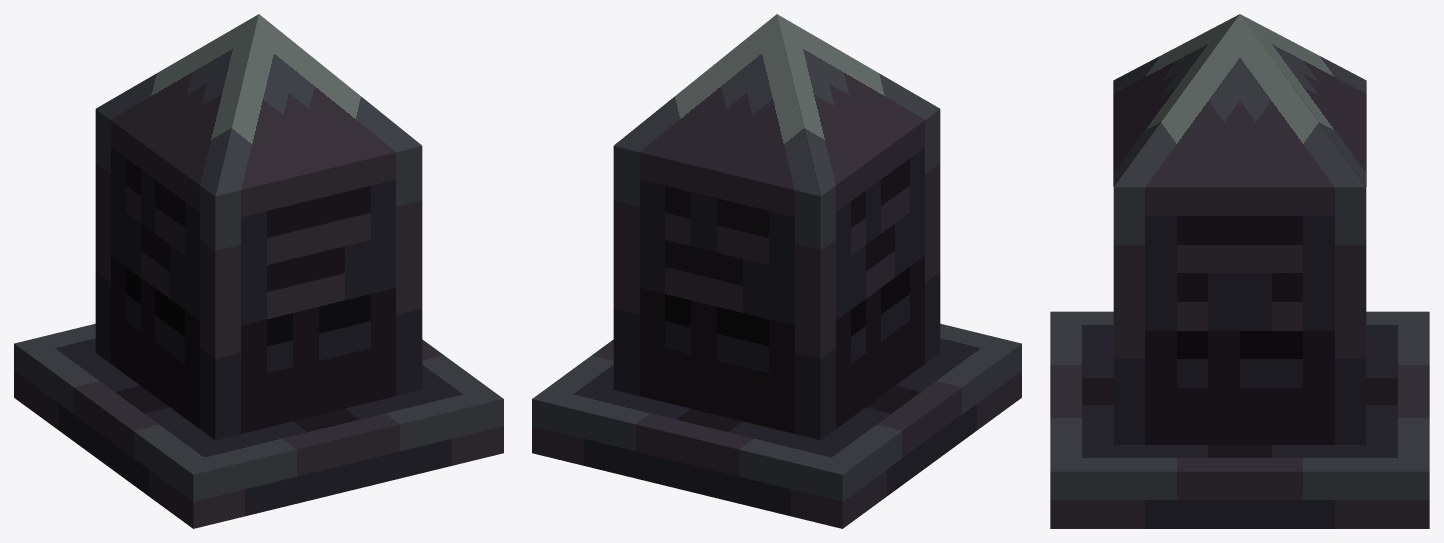
File: obelisk.obj
3 renders of one model, left to right at view 1: azimuth 30°, elevation 25°; view 2: azimuth 150°, elevation 25°; view 3: azimuth 270°, elevation 25°, orthographic. The views are drawn at different scales.
Parts seen in each view (by area): view 1: cube; view 2: cube; view 3: cube.
Part boxes in pixels (x1=…): cube: x1=14, y1=14, x2=503, y2=528; cube: x1=532, y1=14, x2=1021, y2=528; cube: x1=1050, y1=14, x2=1429, y2=528.
Size of the model in its own units: 0.75 by 0.9496 by 0.75.
